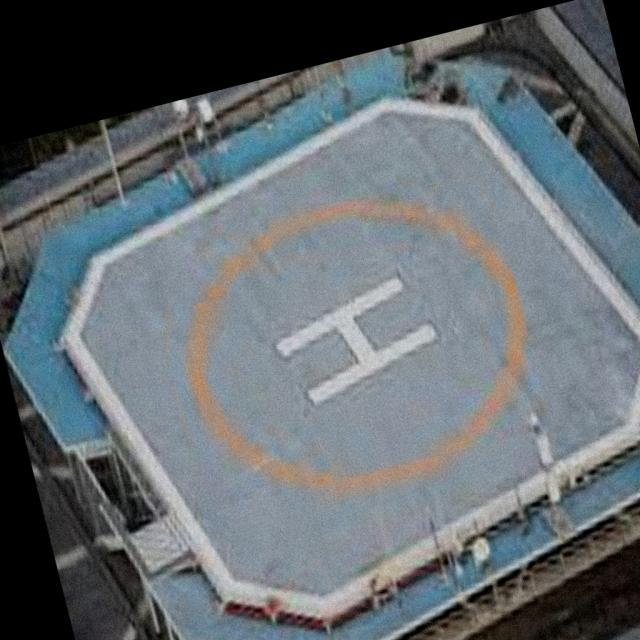helipad: (178, 196, 534, 498)
